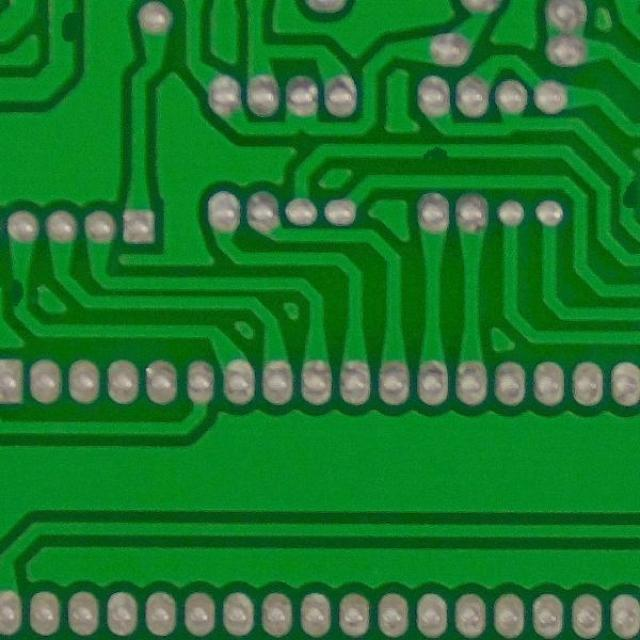MouseBite: (54, 2, 81, 49), (411, 140, 462, 164), (6, 270, 34, 312), (614, 174, 640, 214)
